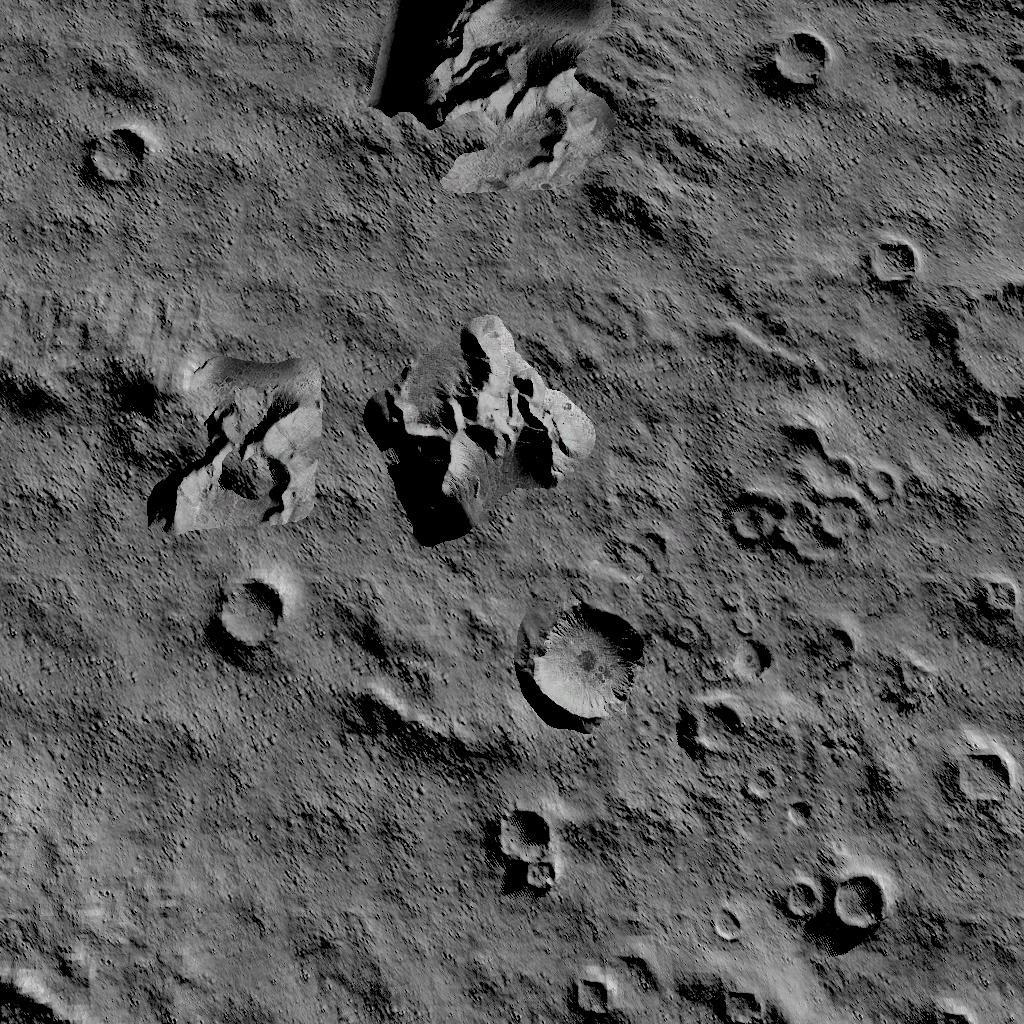Boulders: (0, 290, 328, 568), (366, 3, 628, 229), (360, 326, 602, 566), (863, 0, 1024, 165), (333, 690, 505, 790)
Crater: (711, 424, 894, 582), (518, 602, 657, 736), (930, 290, 1024, 450), (562, 972, 834, 1024), (770, 873, 914, 954), (203, 586, 291, 686), (72, 108, 164, 202), (744, 32, 840, 118), (478, 818, 560, 918), (940, 736, 1018, 824), (674, 704, 756, 786), (862, 232, 928, 298), (954, 570, 1016, 632), (724, 644, 772, 706)
Plan surface: (2, 578, 192, 1024), (204, 805, 457, 1024)
